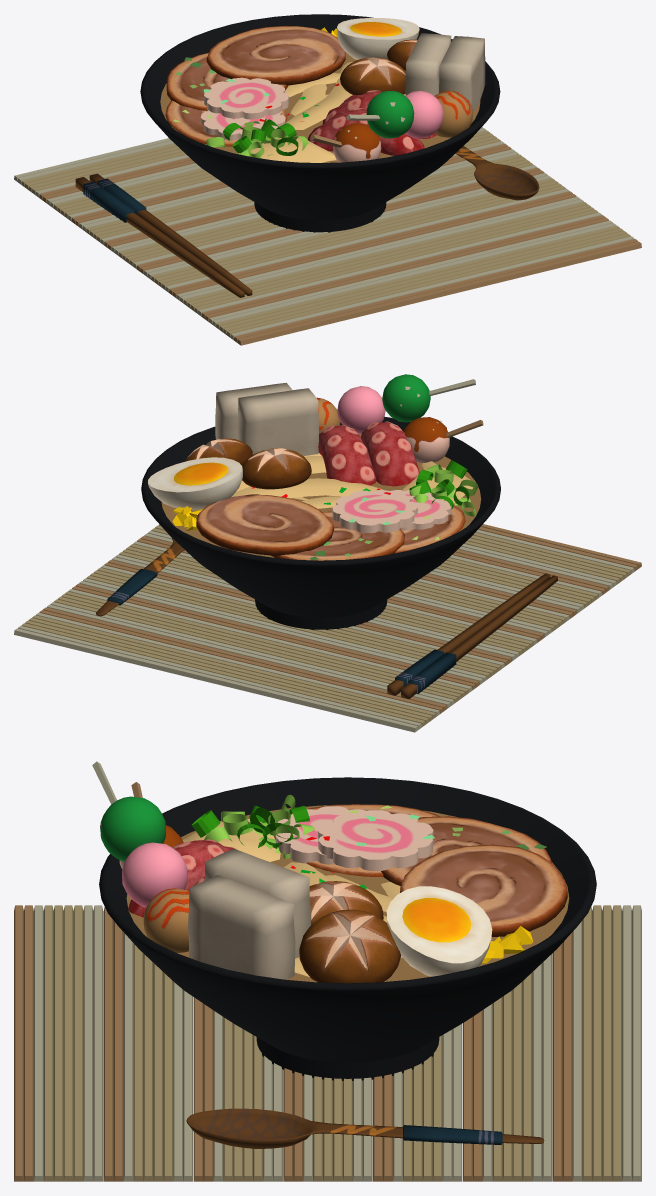
Rendered from LaMian_Chai_2.FBX.
The picture shows the model from 3 angles, top to bottom: view 1: azimuth 30°, elevation 25°; view 2: azimuth 150°, elevation 25°; view 3: azimuth 270°, elevation 25°; orthographic projection. The views are drawn at different scales.
Visible parts, largest first — view 1: wan, Object020, Object017, Object014, dianzi7, chashaorou1, dianzi6, Object011, Object019, dianzi5, Object016, chashaorou1_2 (+49 smaller); view 2: wan, Object002, Object005, doufu2, Object001, Object008, chashaorou1, dianzi1, chashaorou1_2, Object004, jidan2, Object011 (+49 smaller); view 3: wan, Object020, Object002, doufu1, Object017, Object005, Object019, dianzi7, Object001, dianzi6, shaozi1, jidan2 (+46 smaller).
Part boxes in pixels (bbox=[...]): wan: bbox=[140, 14, 500, 232]; Object020: bbox=[216, 225, 630, 337]; Object017: bbox=[183, 202, 598, 313]; Object014: bbox=[151, 178, 565, 289]; dianzi7: bbox=[234, 239, 641, 345]; chashaorou1: bbox=[206, 26, 345, 85]; dianzi6: bbox=[201, 215, 608, 321]; Object011: bbox=[118, 154, 533, 266]; Object019: bbox=[209, 220, 616, 326]; dianzi5: bbox=[169, 191, 576, 297]; Object016: bbox=[176, 196, 583, 303]; chashaorou1_2: bbox=[221, 29, 342, 71]; wan: bbox=[141, 417, 500, 630]; Object002: bbox=[21, 615, 436, 726]; Object005: bbox=[54, 591, 468, 702]; doufu2: bbox=[237, 388, 318, 455]; Object001: bbox=[14, 626, 421, 732]; Object008: bbox=[86, 567, 501, 679]; chashaorou1: bbox=[196, 494, 333, 555]; dianzi1: bbox=[39, 607, 447, 713]; chashaorou1_2: bbox=[207, 494, 319, 541]; Object004: bbox=[47, 602, 454, 708]; jidan2: bbox=[148, 457, 242, 510]; Object011: bbox=[119, 544, 533, 655]; wan: bbox=[99, 777, 596, 1080]; Object020: bbox=[43, 905, 83, 1181]; Object002: bbox=[582, 905, 621, 1181]; doufu1: bbox=[188, 875, 295, 979]; Object017: bbox=[133, 943, 173, 1181]; Object005: bbox=[492, 972, 532, 1181]; Object019: bbox=[83, 905, 103, 1181]; dianzi7: bbox=[14, 905, 33, 1181]; Object001: bbox=[622, 905, 641, 1181]; dianzi6: bbox=[103, 907, 123, 1181]; shaozi1: bbox=[186, 1108, 544, 1148]; jidan2: bbox=[386, 886, 492, 976].
Bounding box in the file's own units: 210 × 88.13 × 206.
Materials: 14 (1 with a texture image).
